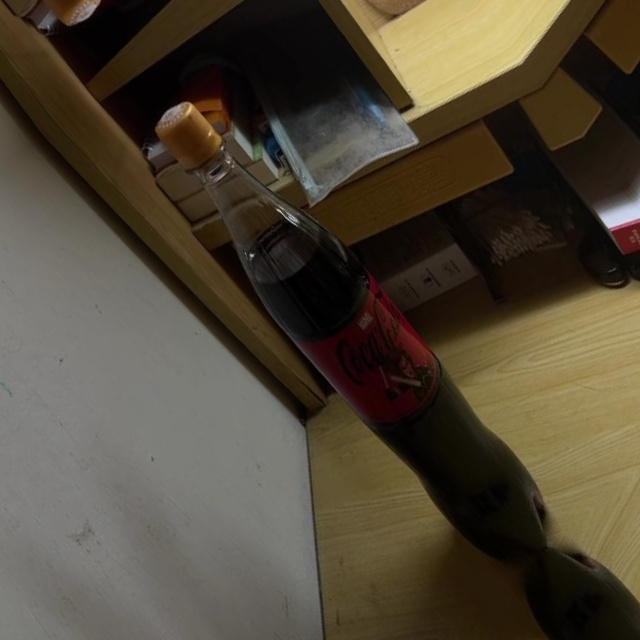Coca-Cola: (128, 77, 577, 585)
